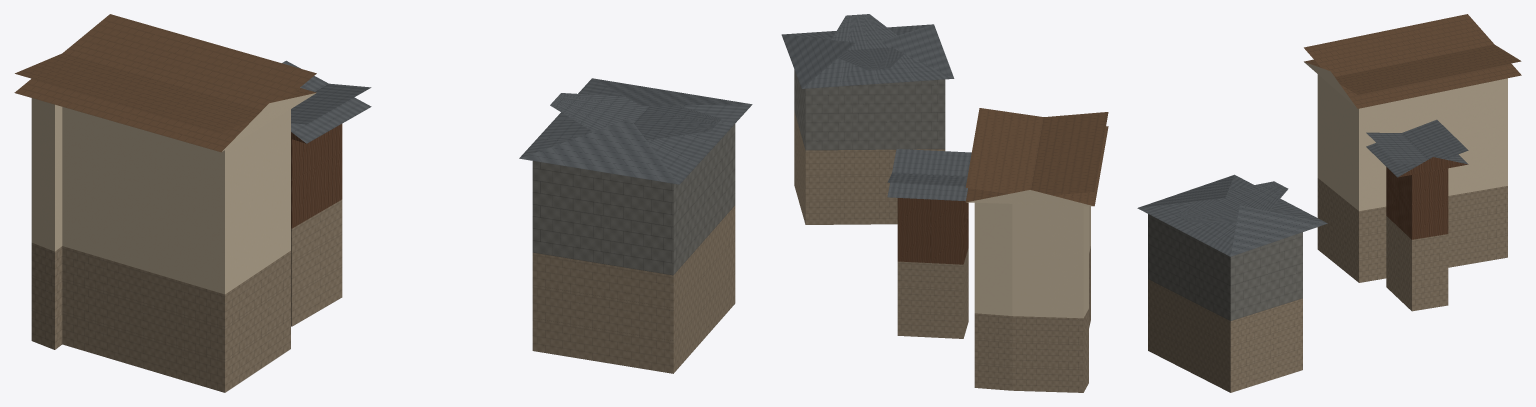
Rendered from bld_c44_-38_418.gltf.
3 renders of one model, left to right at view 1: azimuth 30°, elevation 25°; view 2: azimuth 150°, elevation 25°; view 3: azimuth 270°, elevation 25°, orthographic. The views are drawn at different scales.
Parts seen in each view (by area): view 1: bld_c44_-38_418; view 2: bld_c44_-38_418; view 3: bld_c44_-38_418.
Part boxes in pixels (<box>): bld_c44_-38_418: <box>14,14,752,392</box>; bld_c44_-38_418: <box>781,14,1108,392</box>; bld_c44_-38_418: <box>1137,14,1521,392</box>.
Bounding box in the file's own units: 31.22 × 14 × 24.78.
8 materials, 8 textured.
